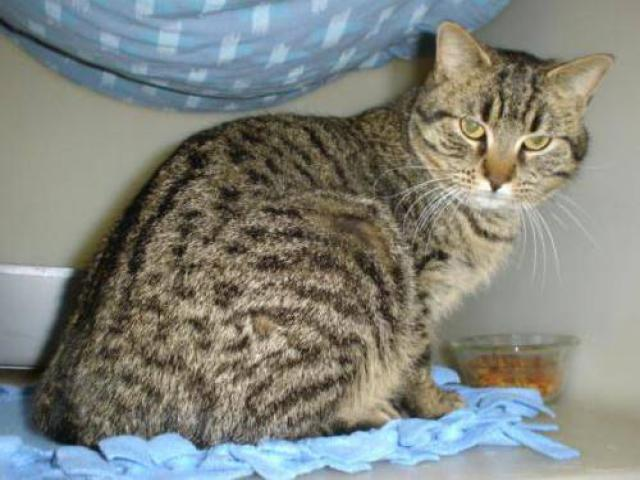cat: (31, 22, 612, 443)
